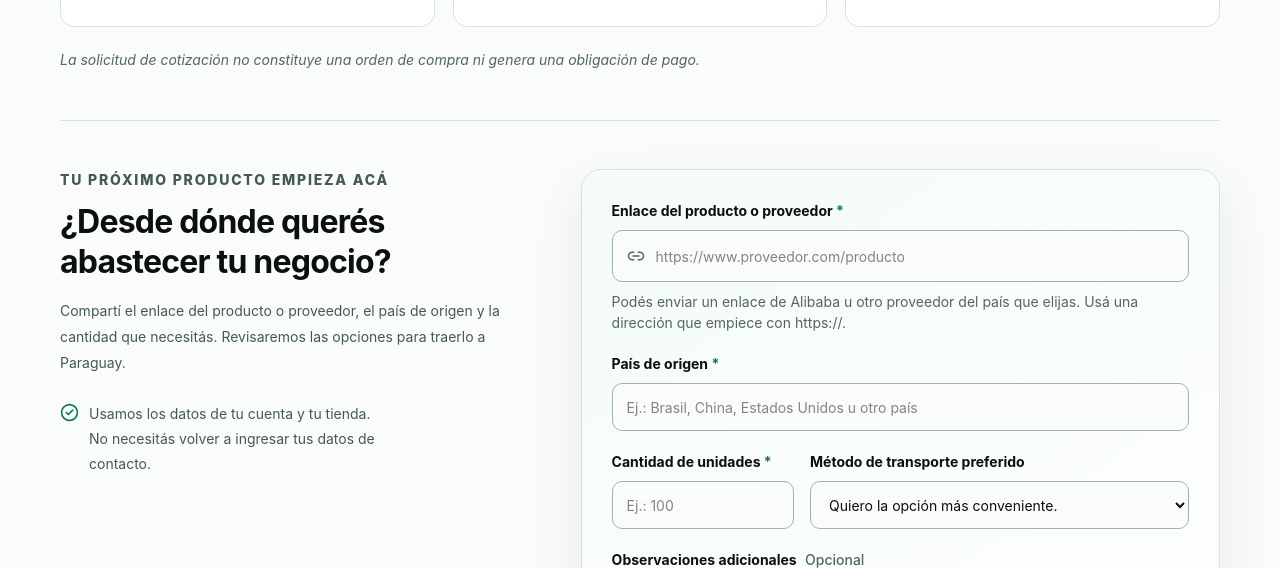
Test: acepta proveedores de Estados Unidos y envía país y transporte
(page scrolled)
Type "https://www.alibaba.com/product-detail/Test_123.html" into the field labelled "Enlace del producto o proveedor *".
click(900, 256); type("https://www.alibaba.com/product-detail/Test_123.html")  # box 612,230 -> 1189,282
Type "100" into the number field labelled "Cantidad de unidades *".
click(703, 505); type("100")  # box 612,481 -> 794,529
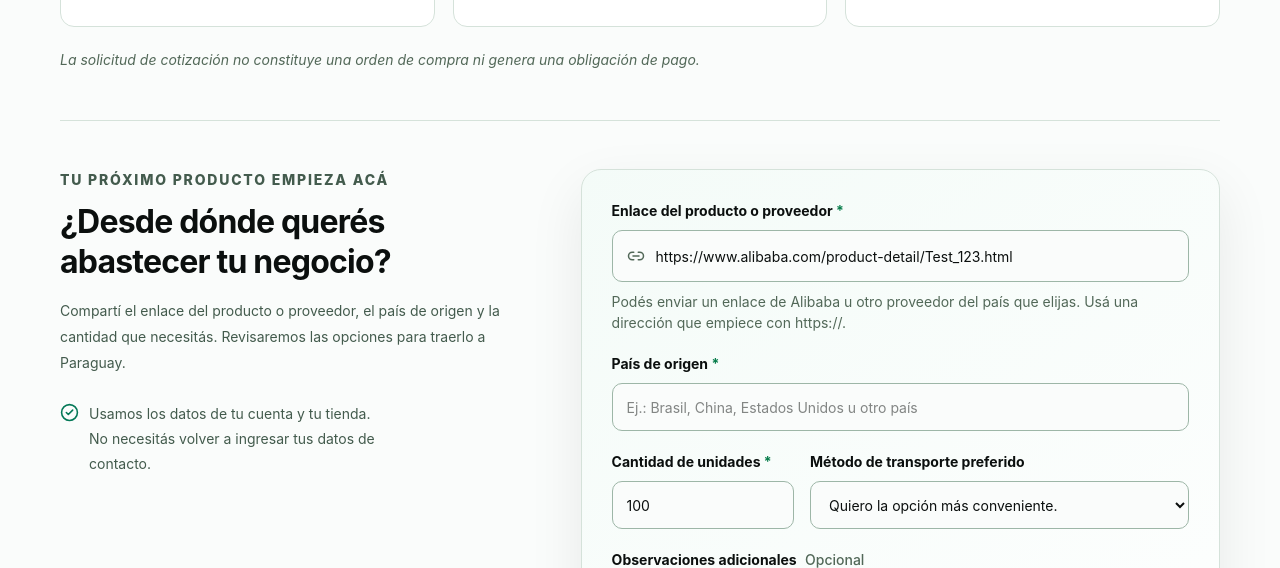
Type "Brasil" into the field labelled "País de origen *".
click(900, 407); type("Brasil")  # box 612,383 -> 1189,431
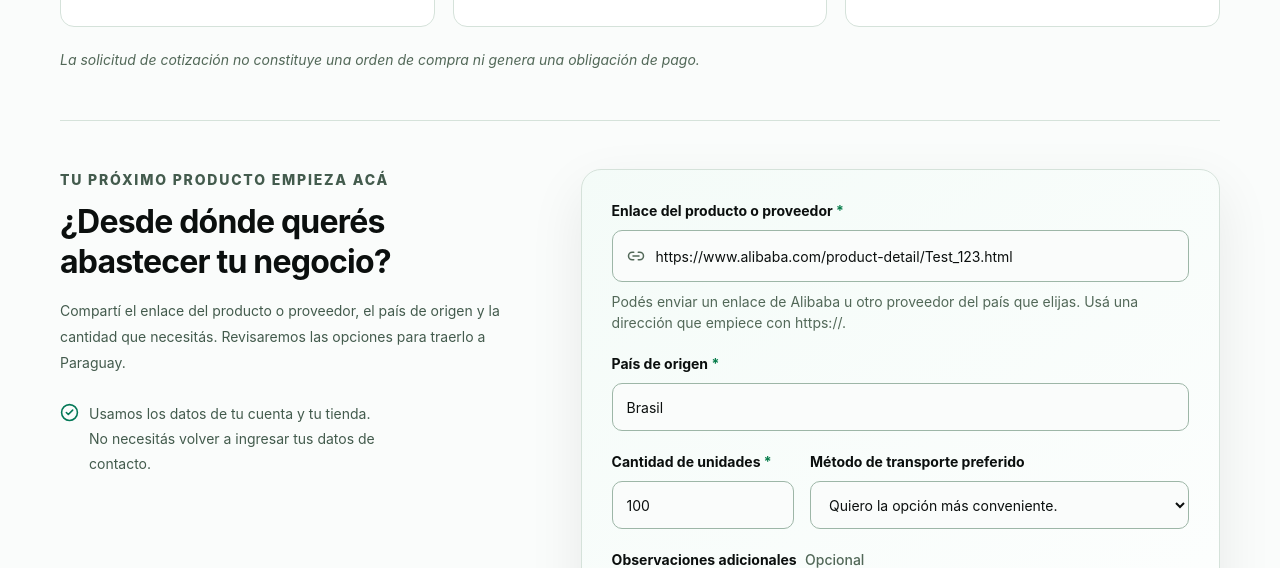
Replace the text in the field labelled "Enlace del producto o proveedor *" with "https://supplier.com/product" at [900, 256], box 612,230 -> 1189,282
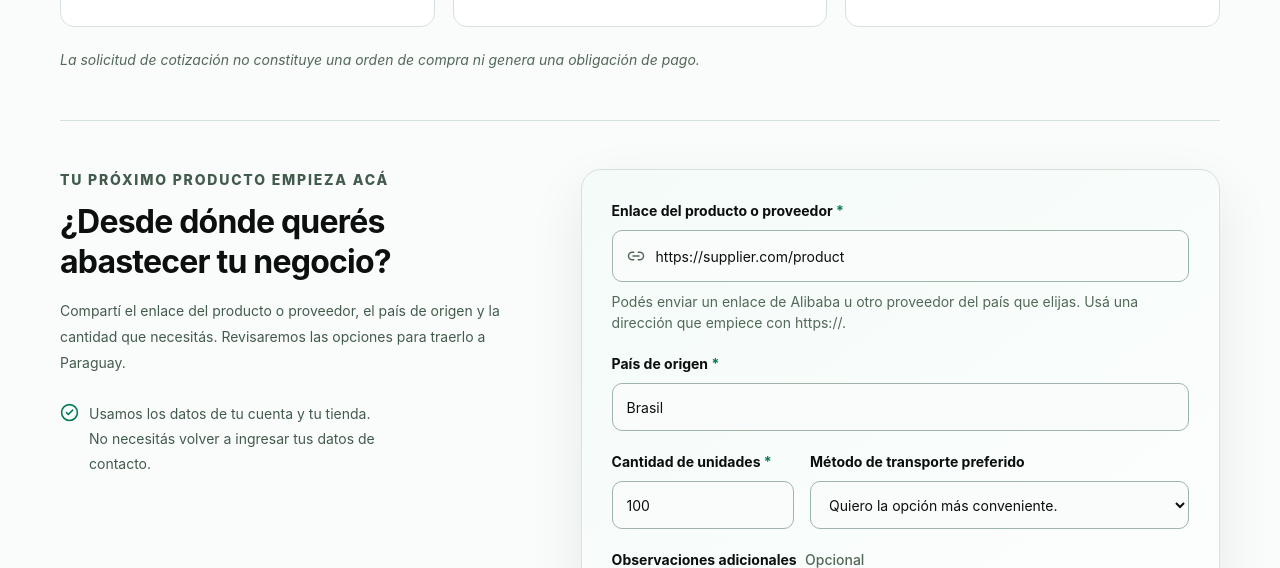
Replace the text in the field labelled "País de origen *" with "Estados Unidos" at [900, 407], box 612,383 -> 1189,431
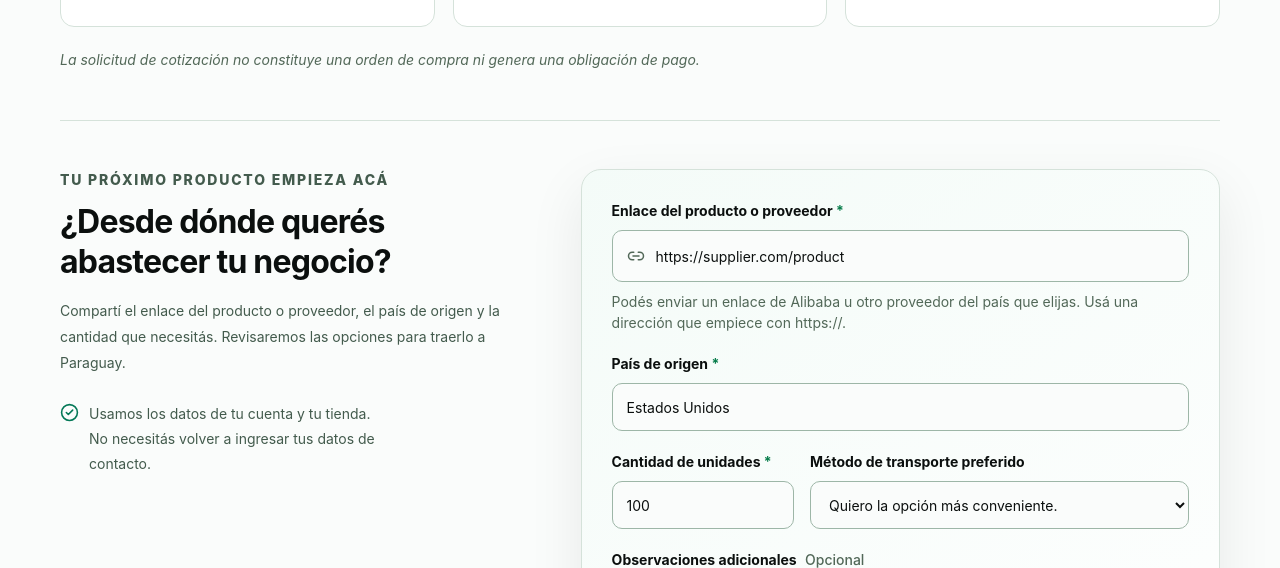
Select "Transporte aéreo." in the dropdown labelled "Método de transporte preferido" at [1000, 505], box 810,481 -> 1189,529
(page scrolled)
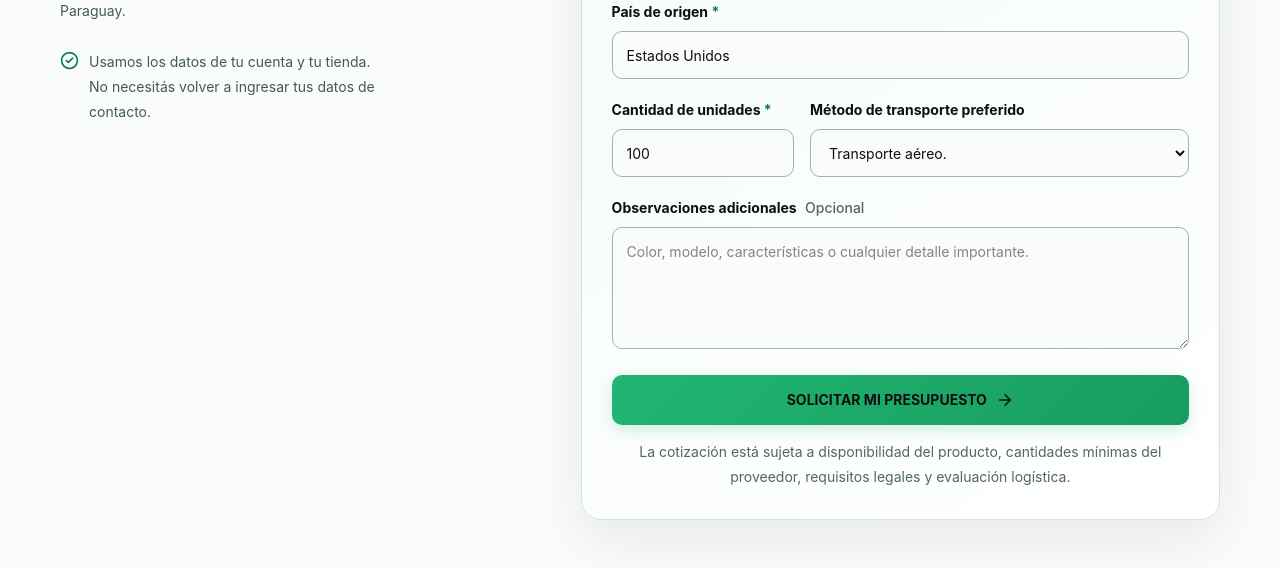
Click the button "SOLICITAR MI PRESUPUESTO".
click(900, 400)  # box 612,374 -> 1189,424
(page scrolled)
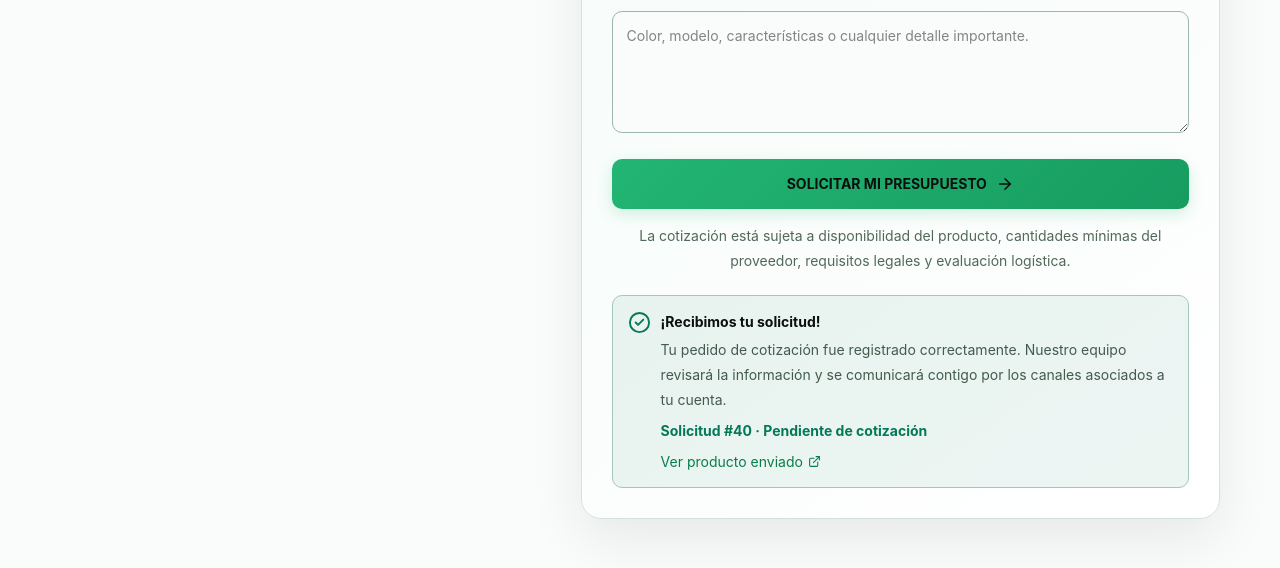
Now the message is shown, box 612,295 -> 1189,488
